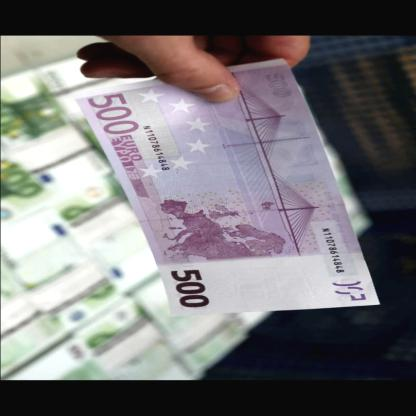euro_banknote: (76, 94, 390, 303)
